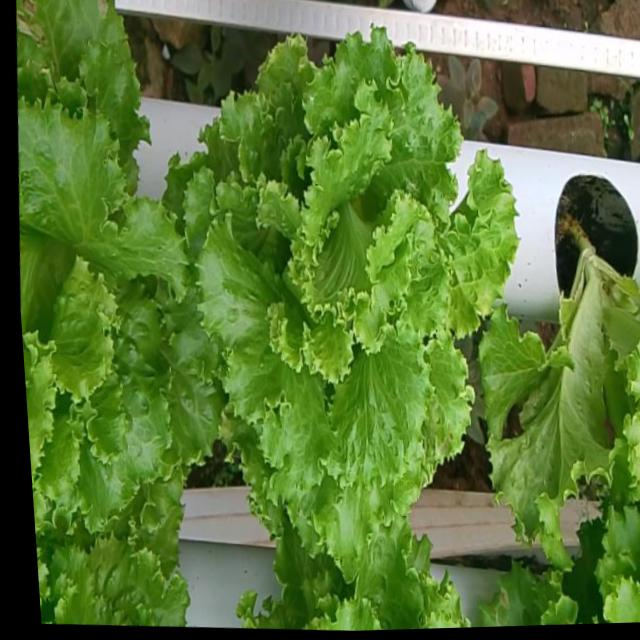Mature: (185, 12, 521, 550), (18, 80, 222, 524)
